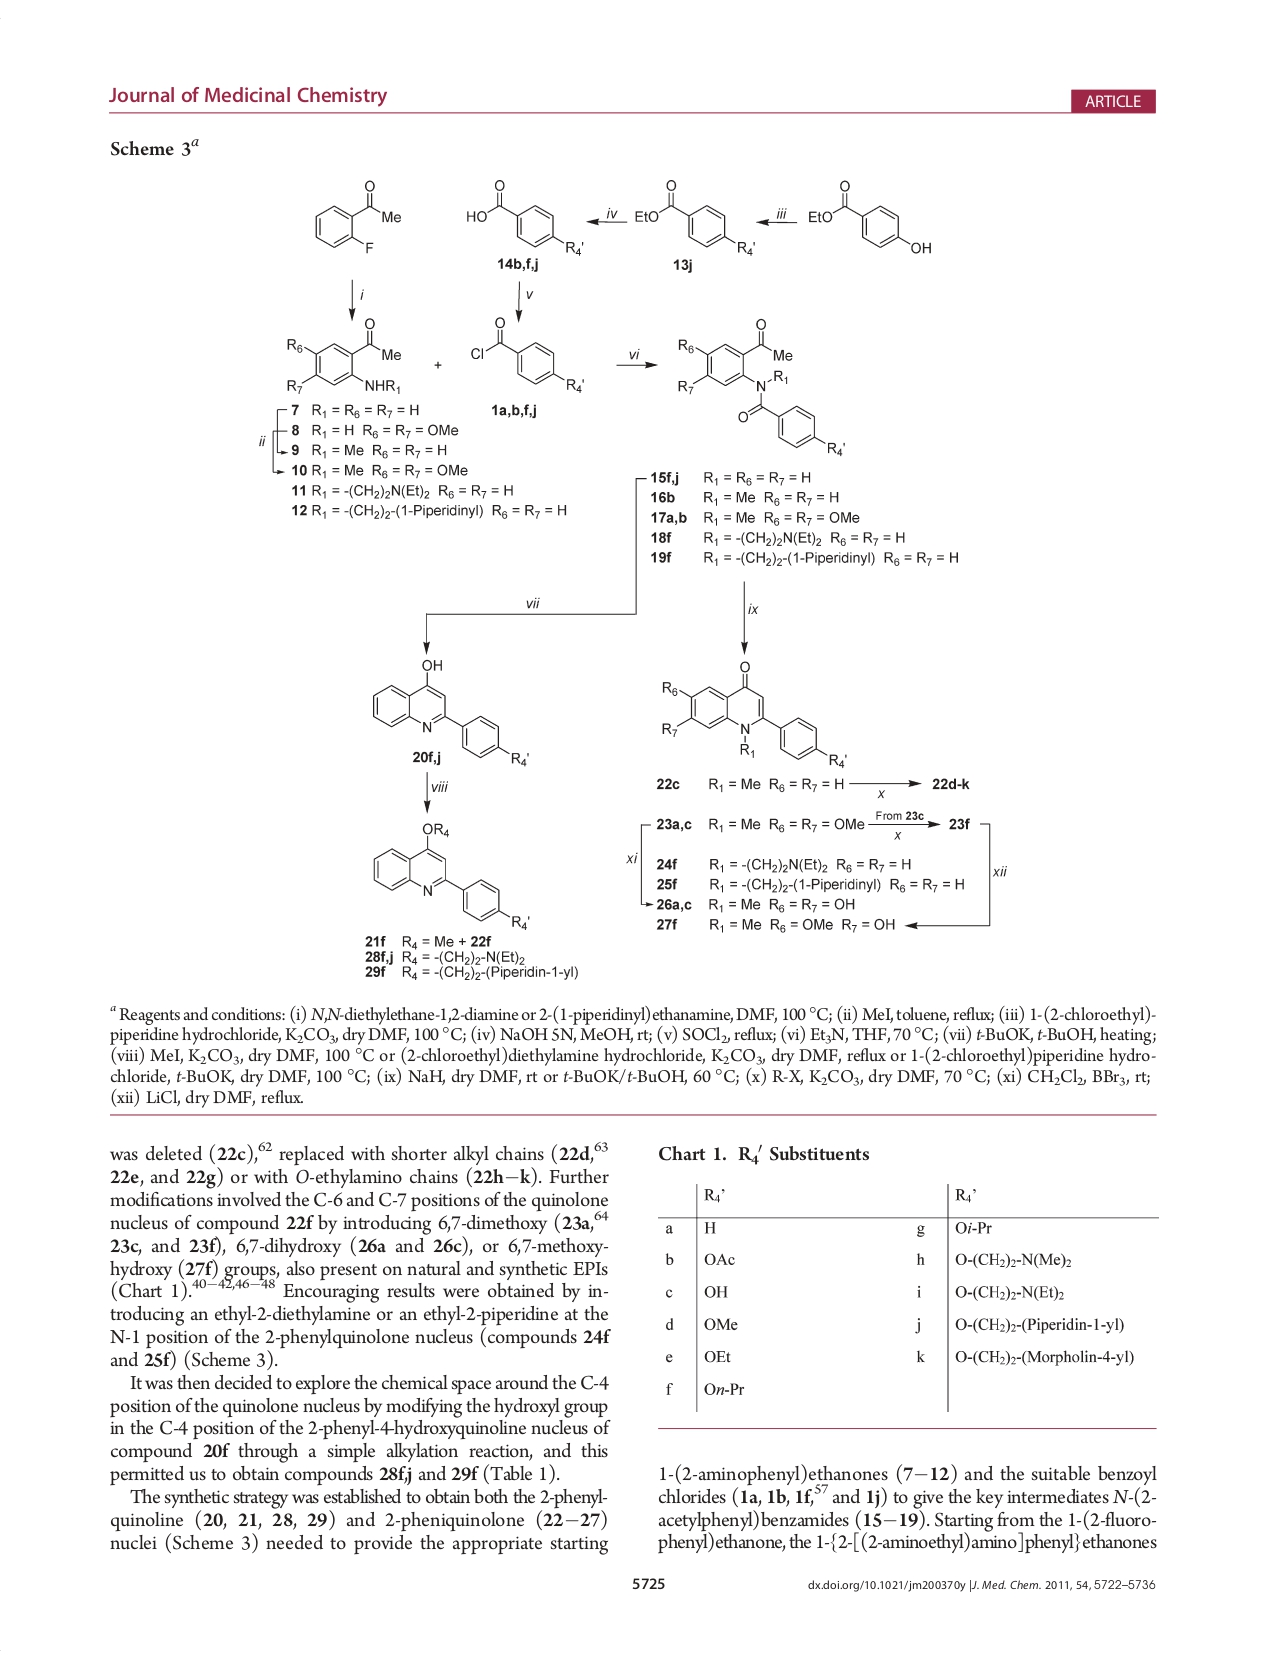exist_molecular: (677, 317, 847, 457), (660, 660, 848, 770), (368, 658, 533, 766), (370, 822, 532, 931), (463, 176, 590, 259), (282, 317, 407, 398), (809, 178, 935, 258), (632, 178, 758, 255), (469, 314, 588, 394), (313, 178, 402, 254)
